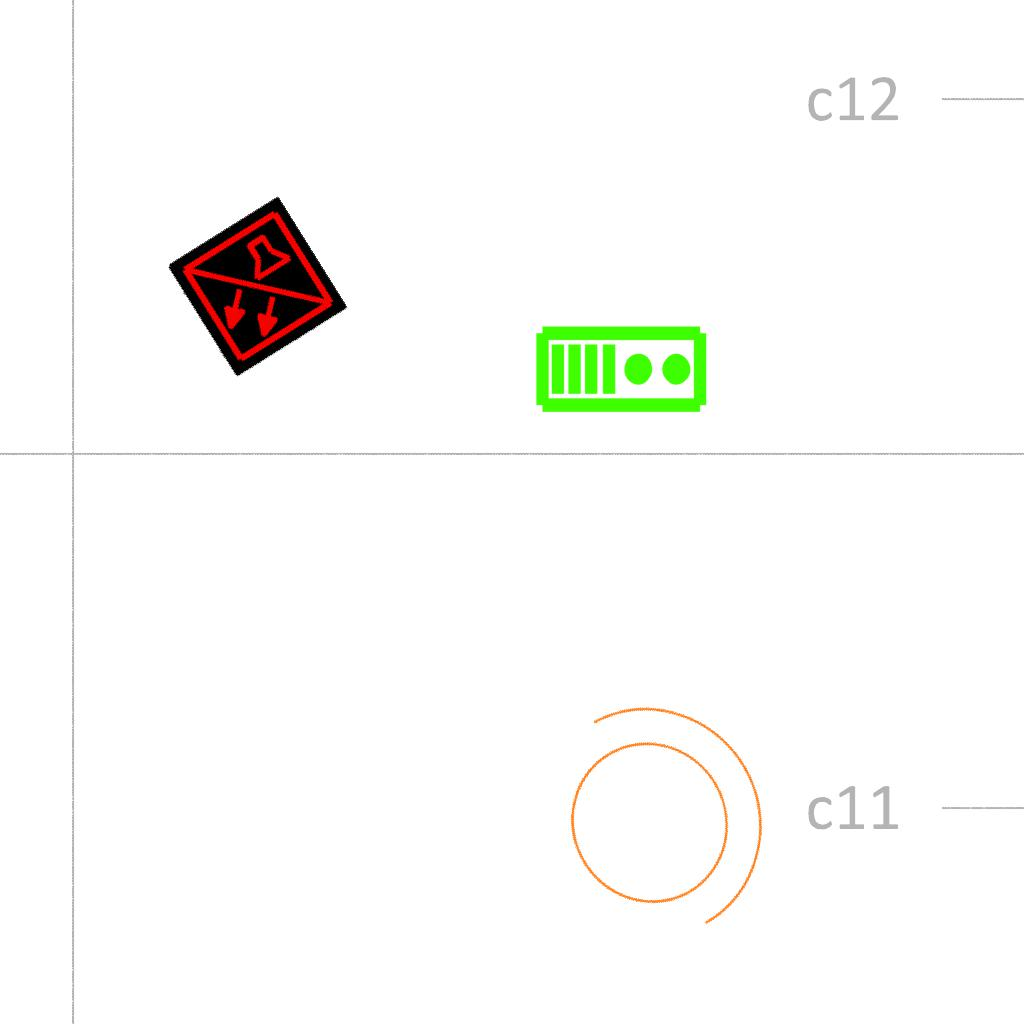Gegensprechanlage_mit_Video: (534, 320, 710, 415)
OKW_Multisensormelder_(Kombination_optischer_Rauch-Kahlenmonoxid_Waerme-Melder): (166, 196, 348, 378)
Scheinwerfer_fuer_Alarmbeleuchtung: (492, 642, 818, 983)
